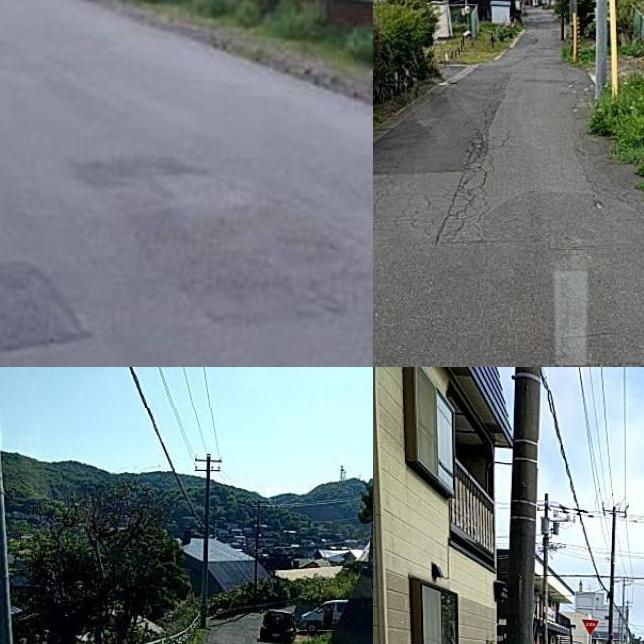Sambungan: (373, 67, 523, 181), (0, 258, 88, 348)
